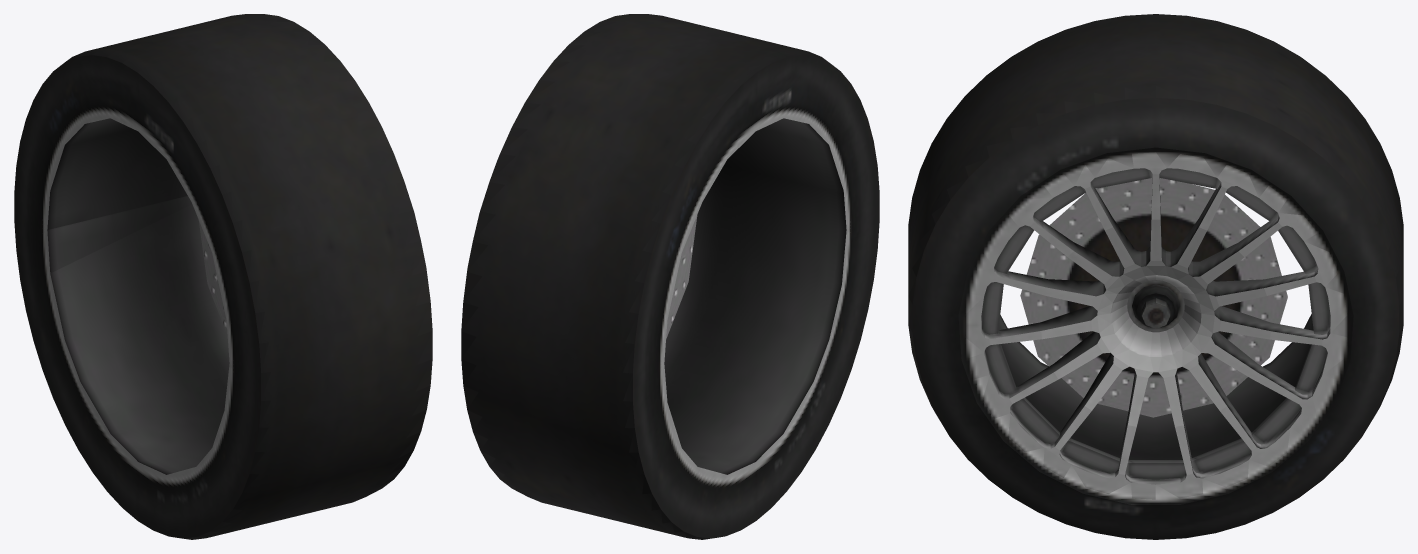
File: wheelleft.obj
3 views of the same model, side by side, from view 1: azimuth 30°, elevation 25°; view 2: azimuth 150°, elevation 25°; view 3: azimuth 270°, elevation 25° (orthographic).
Visible parts, largest first — view 1: WheelRL_dRLWheel; view 2: WheelRL_dRLWheel; view 3: WheelRL_dRLWheel.
Part boxes in pixels (<box>): WheelRL_dRLWheel: <box>14,14,432,539</box>; WheelRL_dRLWheel: <box>461,14,879,539</box>; WheelRL_dRLWheel: <box>908,14,1403,539</box>.
Size of the model in its own units: 0.3066 by 0.7061 by 0.7047.
Materials: 1 (1 with a texture image).
